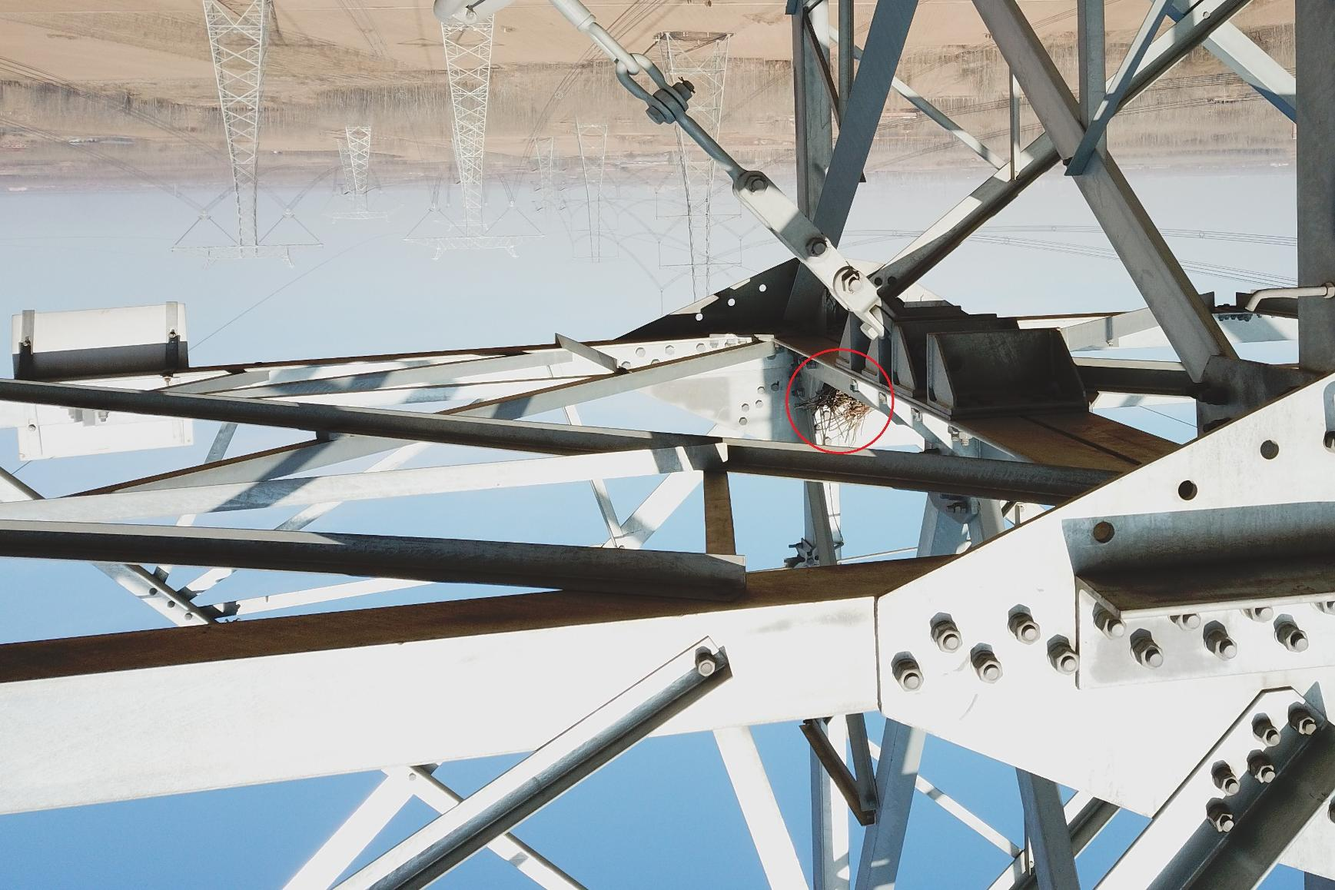nest: (804, 380, 879, 447)
